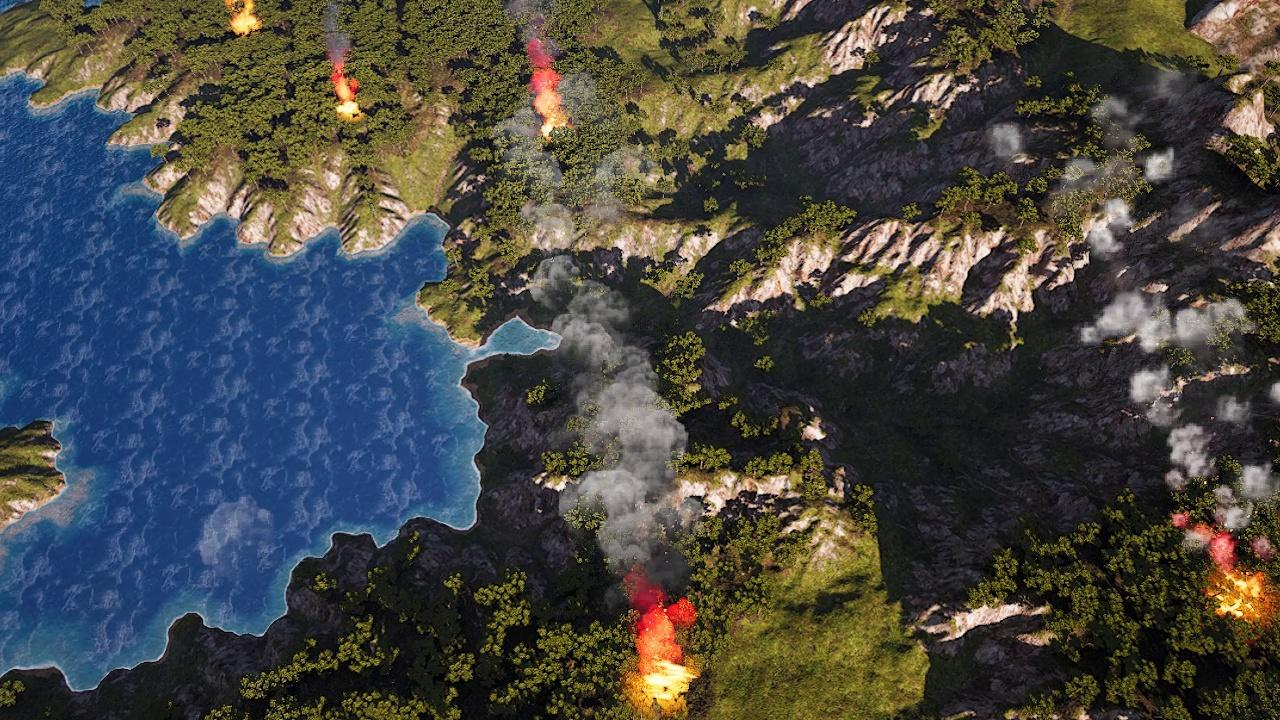fire: (633, 598, 704, 706), (528, 42, 577, 147), (1209, 563, 1270, 620), (330, 69, 364, 116), (223, 0, 260, 33)
smoke: (515, 169, 698, 585), (1066, 288, 1273, 565), (992, 97, 1179, 252)
